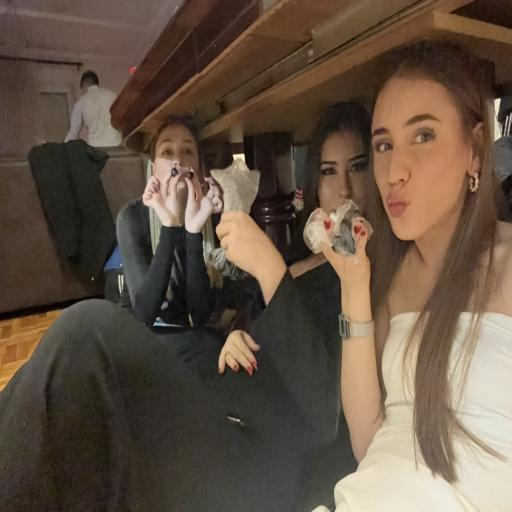masa: (369, 68, 468, 241)
